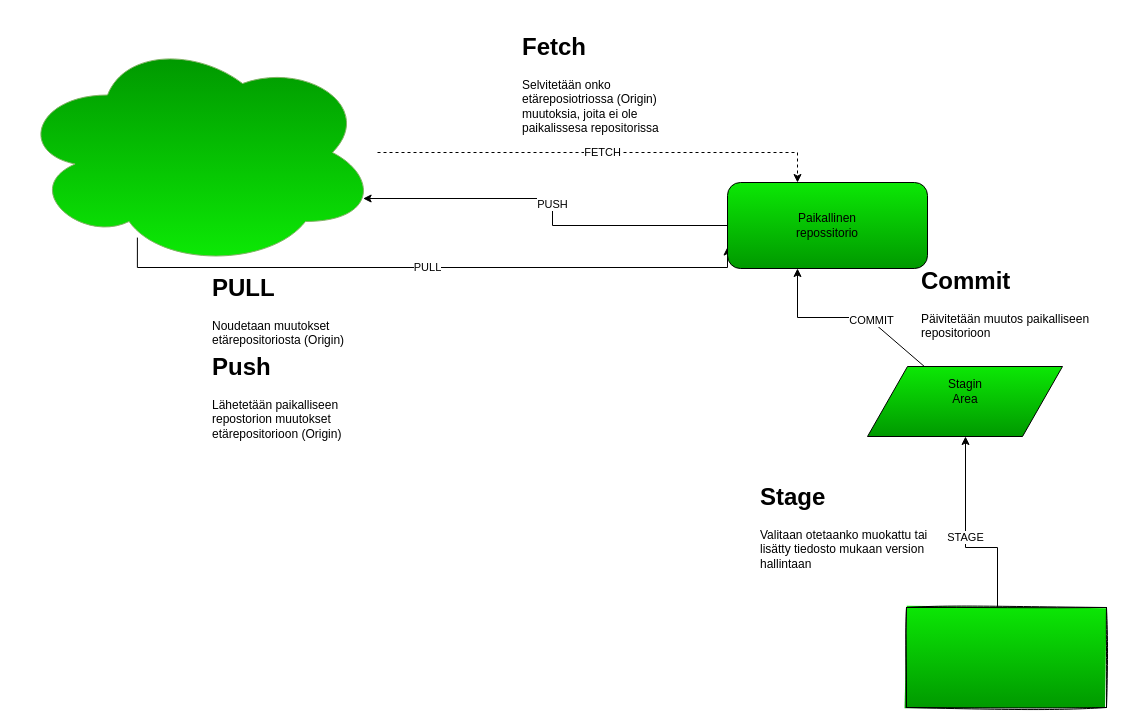
This 1140x725 diagram has some shape labels left out. Each missing label, with the centre of its shape:
Kehitysympäristö (Visual Studio Code): point 1006,657
ORIGIN (Github): point 197,152
